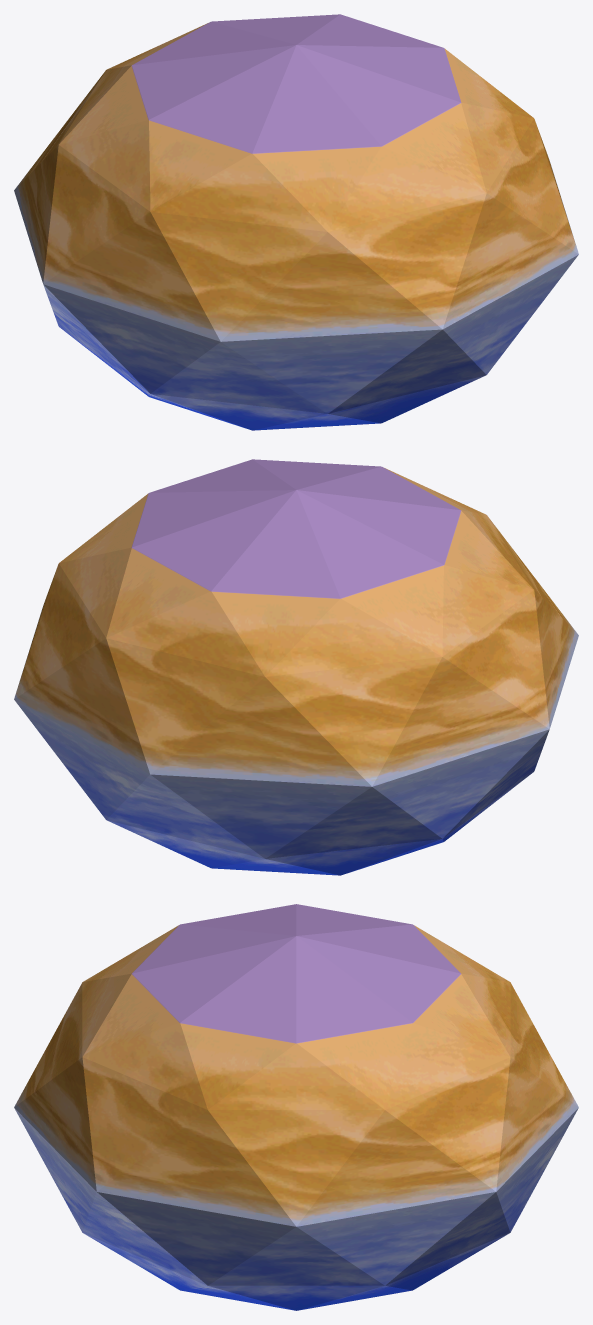
3 renders of one model, top to bottom at view 1: azimuth 30°, elevation 25°; view 2: azimuth 150°, elevation 25°; view 3: azimuth 270°, elevation 25°, orthographic. The views are drawn at different scales.
Parts seen in each view (by area): view 1: world_root; view 2: world_root; view 3: world_root.
Part boxes in pixels (box(x1,y1,x2,y2)): world_root: box(14, 14, 578, 430); world_root: box(14, 459, 578, 875); world_root: box(14, 904, 578, 1310).
Size of the model in its own units: 117964 by 70344 by 117964.
